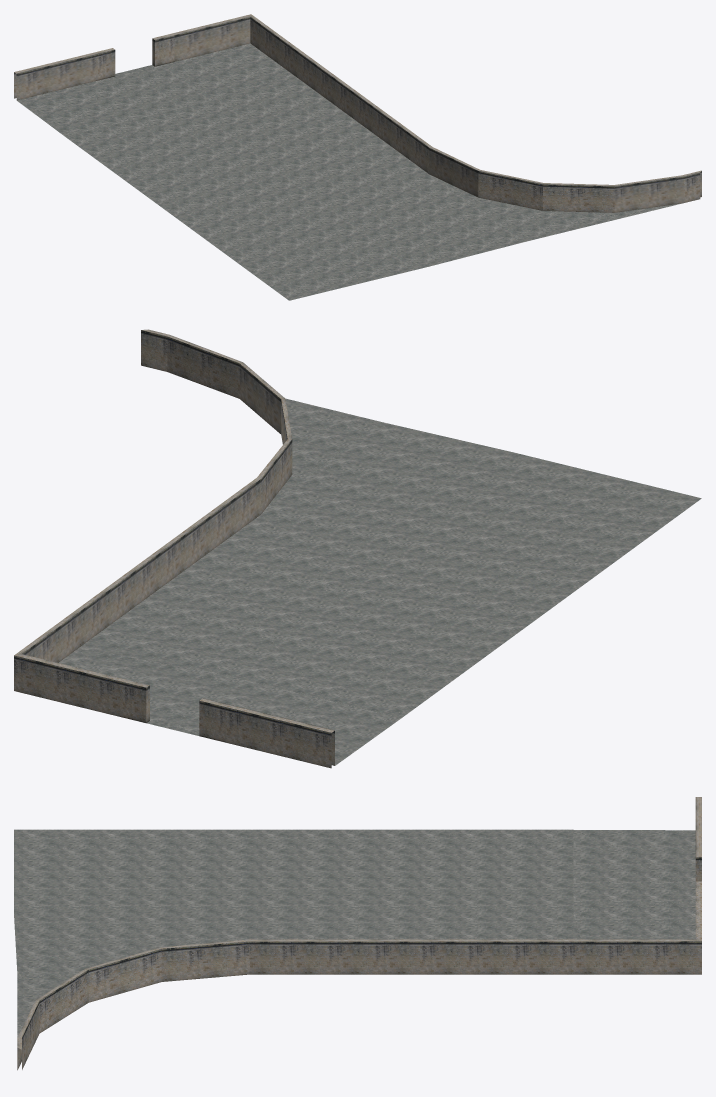
The model's file is landbit05b_sfs.obj.
The picture shows the model from 3 angles, top to bottom: view 1: azimuth 30°, elevation 25°; view 2: azimuth 150°, elevation 25°; view 3: azimuth 270°, elevation 25°; orthographic projection. The views are drawn at different scales.
Parts seen in each view (by area): view 1: landbit05b_SFS; view 2: landbit05b_SFS; view 3: landbit05b_SFS.
Boxes of the visible parts, x1=… form: landbit05b_SFS: x1=14, y1=14, x2=701, y2=300; landbit05b_SFS: x1=14, y1=329, x2=701, y2=768; landbit05b_SFS: x1=14, y1=797, x2=701, y2=1070.
Bounding box in the file's own units: 105 × 6.42 × 121.
Materials: 2 (2 with a texture image).
